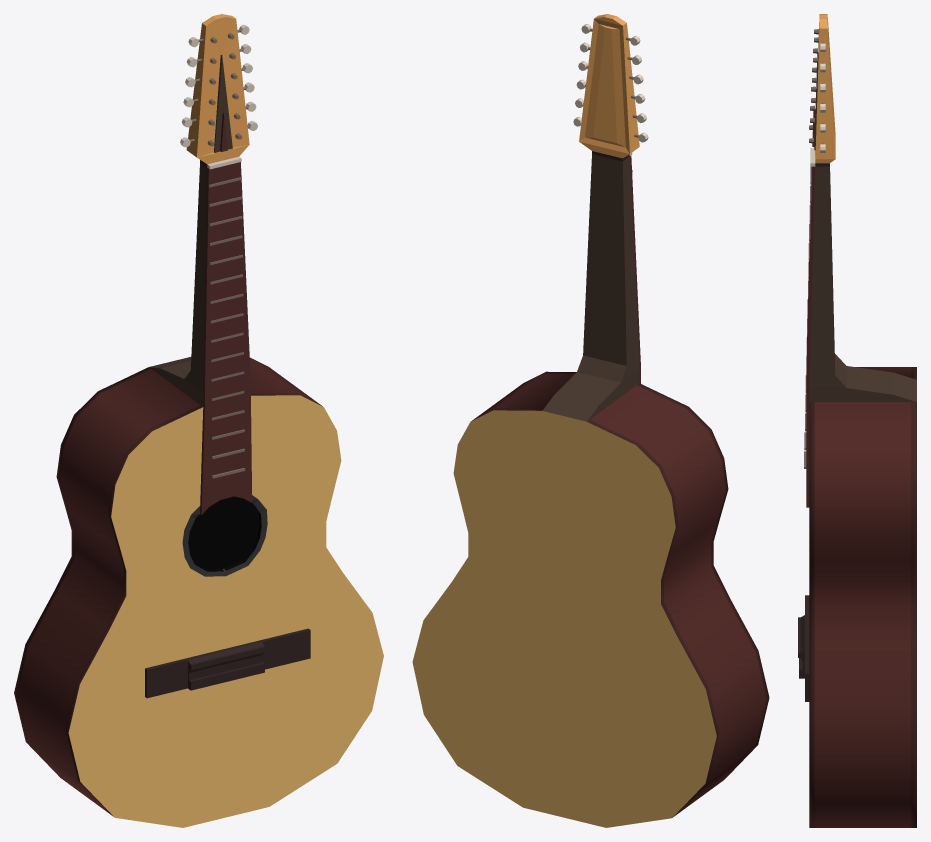
The model's file is TIPLE Modelv3 .fbx.
3 views of the same model, side by side, from view 1: azimuth 30°, elevation 25°; view 2: azimuth 150°, elevation 25°; view 3: azimuth 270°, elevation 25° (orthographic). The views are drawn at different scales.
Parts seen in each view (by area): view 1: Tiple; view 2: Tiple; view 3: Tiple.
Boxes of the visible parts, x1,y1,x2,y2 form: Tiple: (14, 14, 383, 827); Tiple: (412, 14, 769, 827); Tiple: (798, 14, 916, 827).
Size of the model in its own units: 37.41 by 90.17 by 12.39.
Materials: 1 (1 with a texture image).
